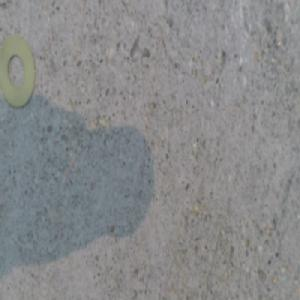Washer: (2, 38, 34, 110)
